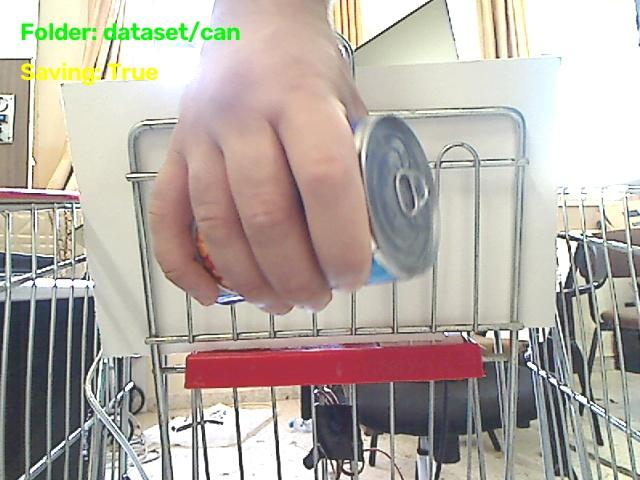can: (354, 115, 437, 283)
